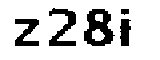2: (46, 4, 77, 49)
8: (84, 6, 114, 46)
i: (117, 6, 136, 49)
z: (9, 15, 42, 47)
